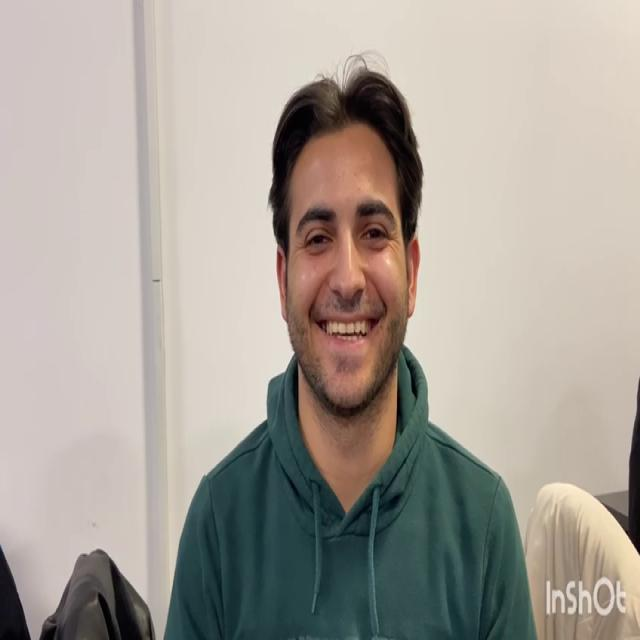happy: (285, 123, 409, 409)
